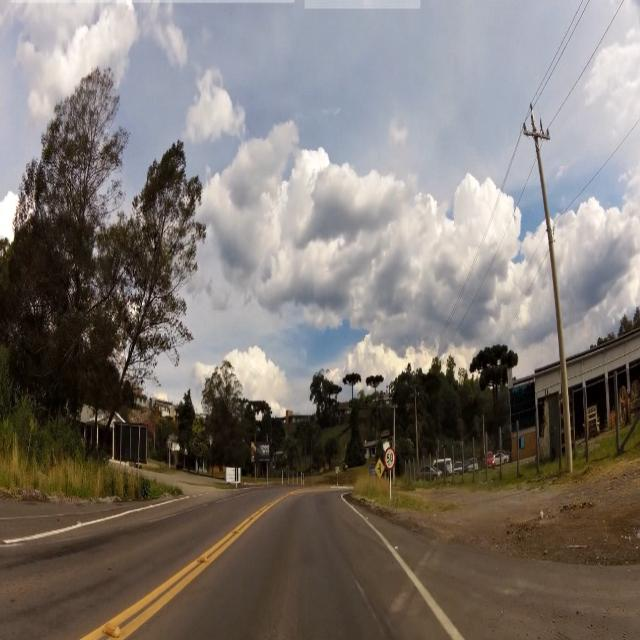R-19: (385, 445, 398, 473)
